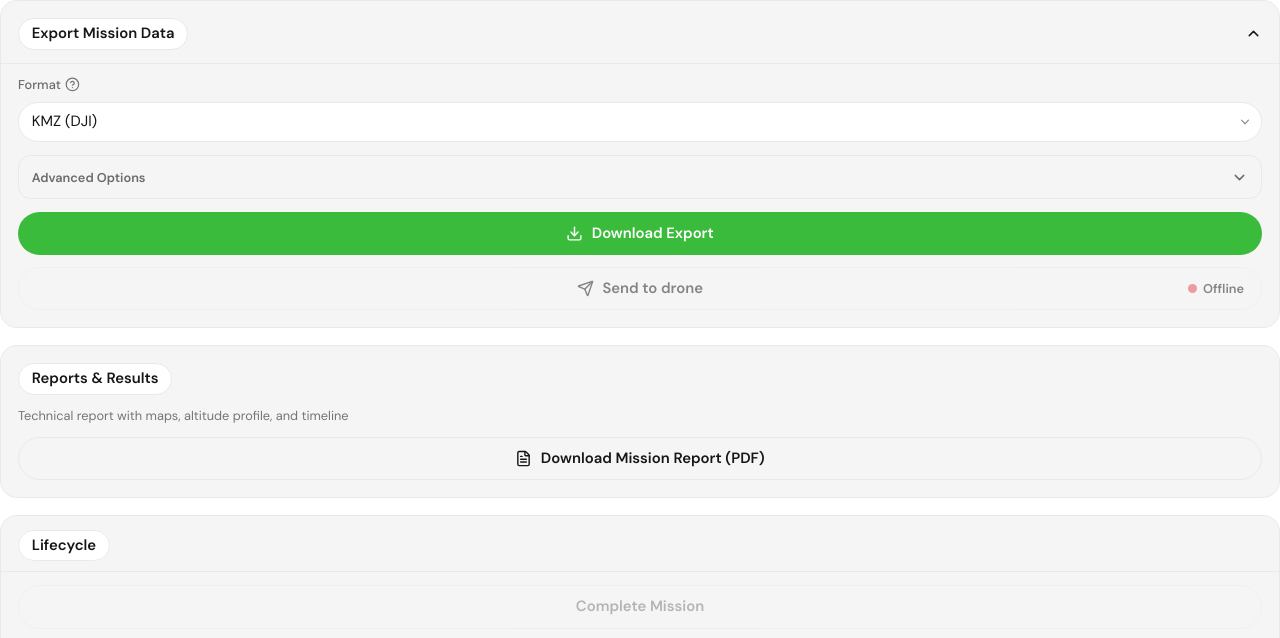
Test: ExportPanel - geozones toggle › disables the geozone checkbox when the drone lacks the capability
The width and height of the screenshot is (1280, 638).
What coordinates should you click on to do the following:
click the button with test id "advanced-options-toggle"
I would click on:
 (89, 177)
Its box is [32,168,1248,186].
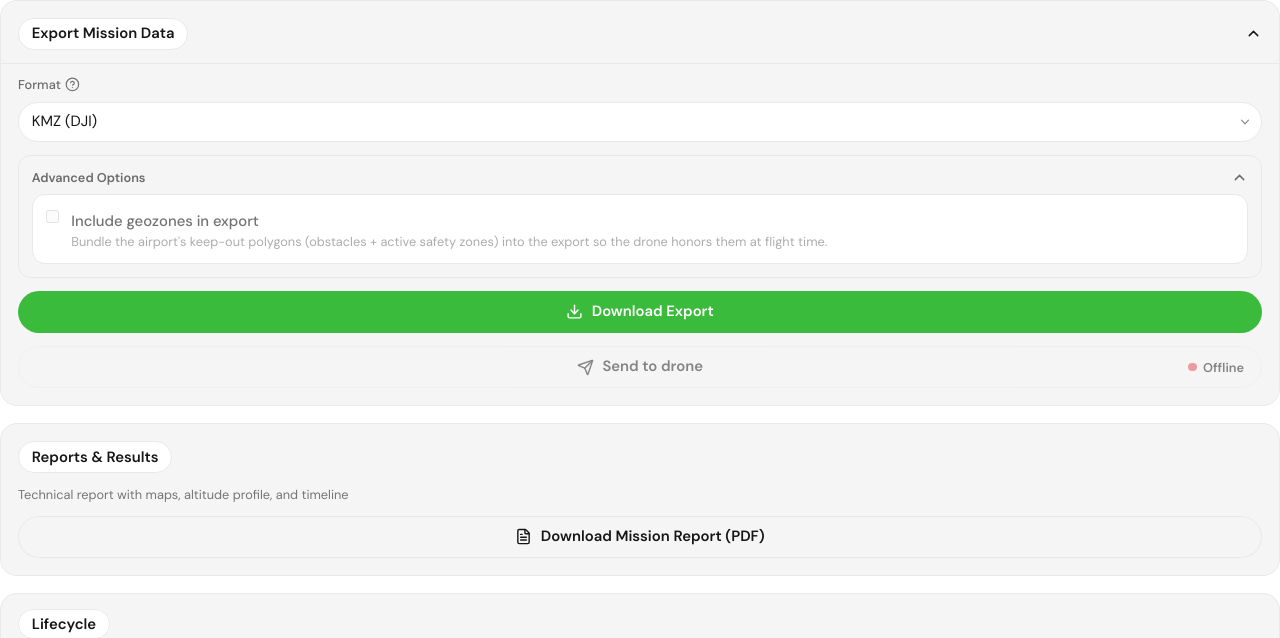
expect the checkbox with test id "include-geozones" is disabled: met, box [46,210,58,223]
